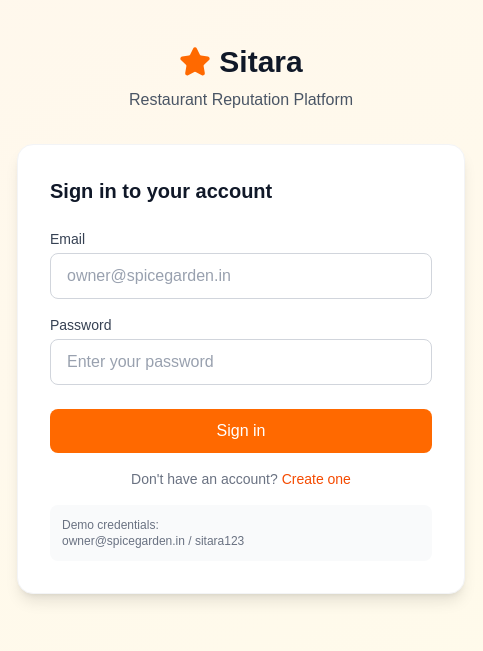
Scenario: LoginPage › shows error message on failed login
Step 1. Type "wrong@test.com" into the field labelled "Email" → (241, 276), box [50,253,432,299]
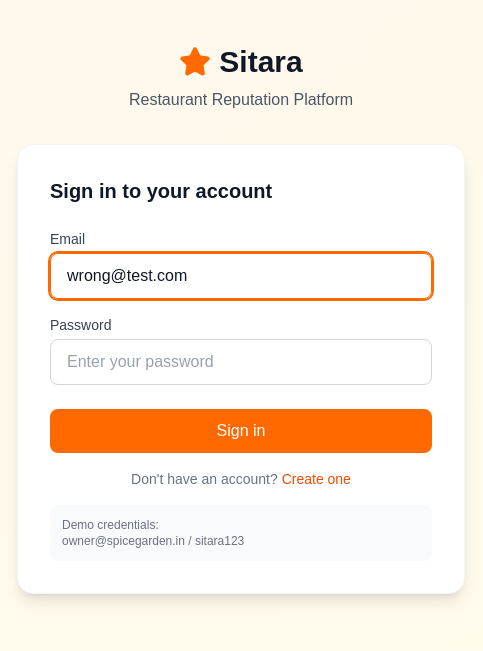
Step 2. Type "wrong" into the password field labelled "Password" → (241, 362), box [50,339,432,385]
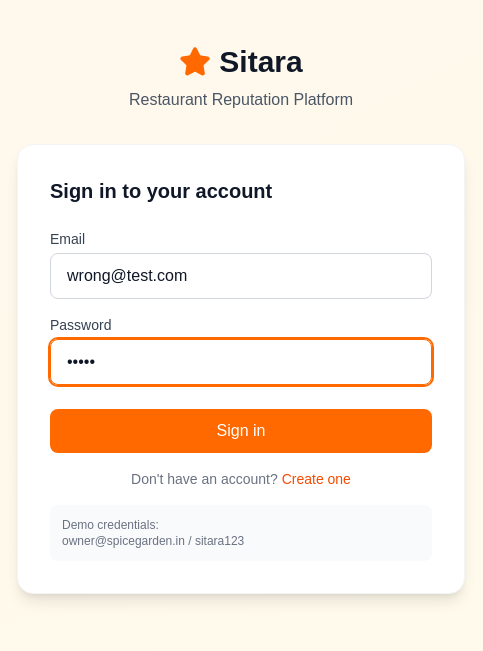
Step 3. Click the button "Sign in" → (241, 431), box [50,409,432,453]
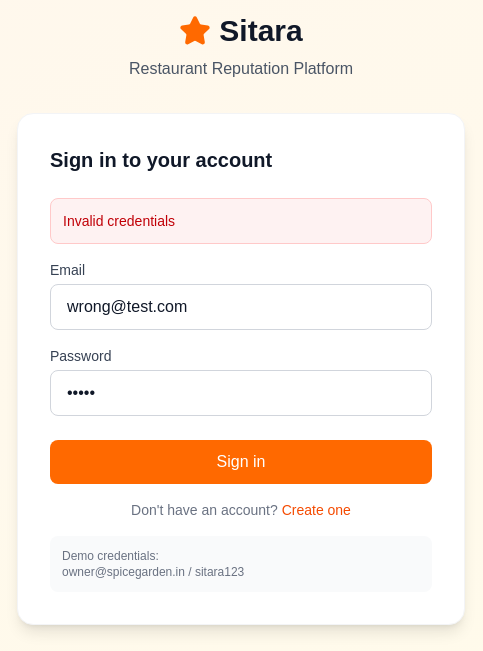
Expected: the text "Invalid credentials" is shown, [50,198,432,244]
